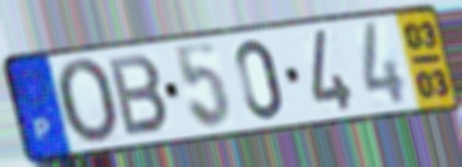0: (233, 37, 285, 123)
4: (359, 19, 411, 109), (310, 26, 356, 115)
5: (169, 39, 237, 132)
B: (105, 53, 174, 139)
O: (53, 56, 122, 148)
